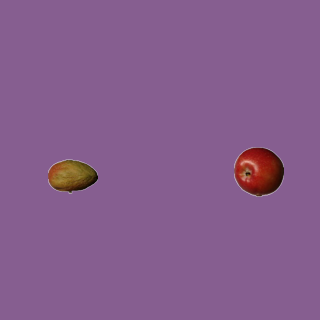Apple Braeburn: (233, 146, 283, 196)
Papaya: (47, 151, 97, 201)
